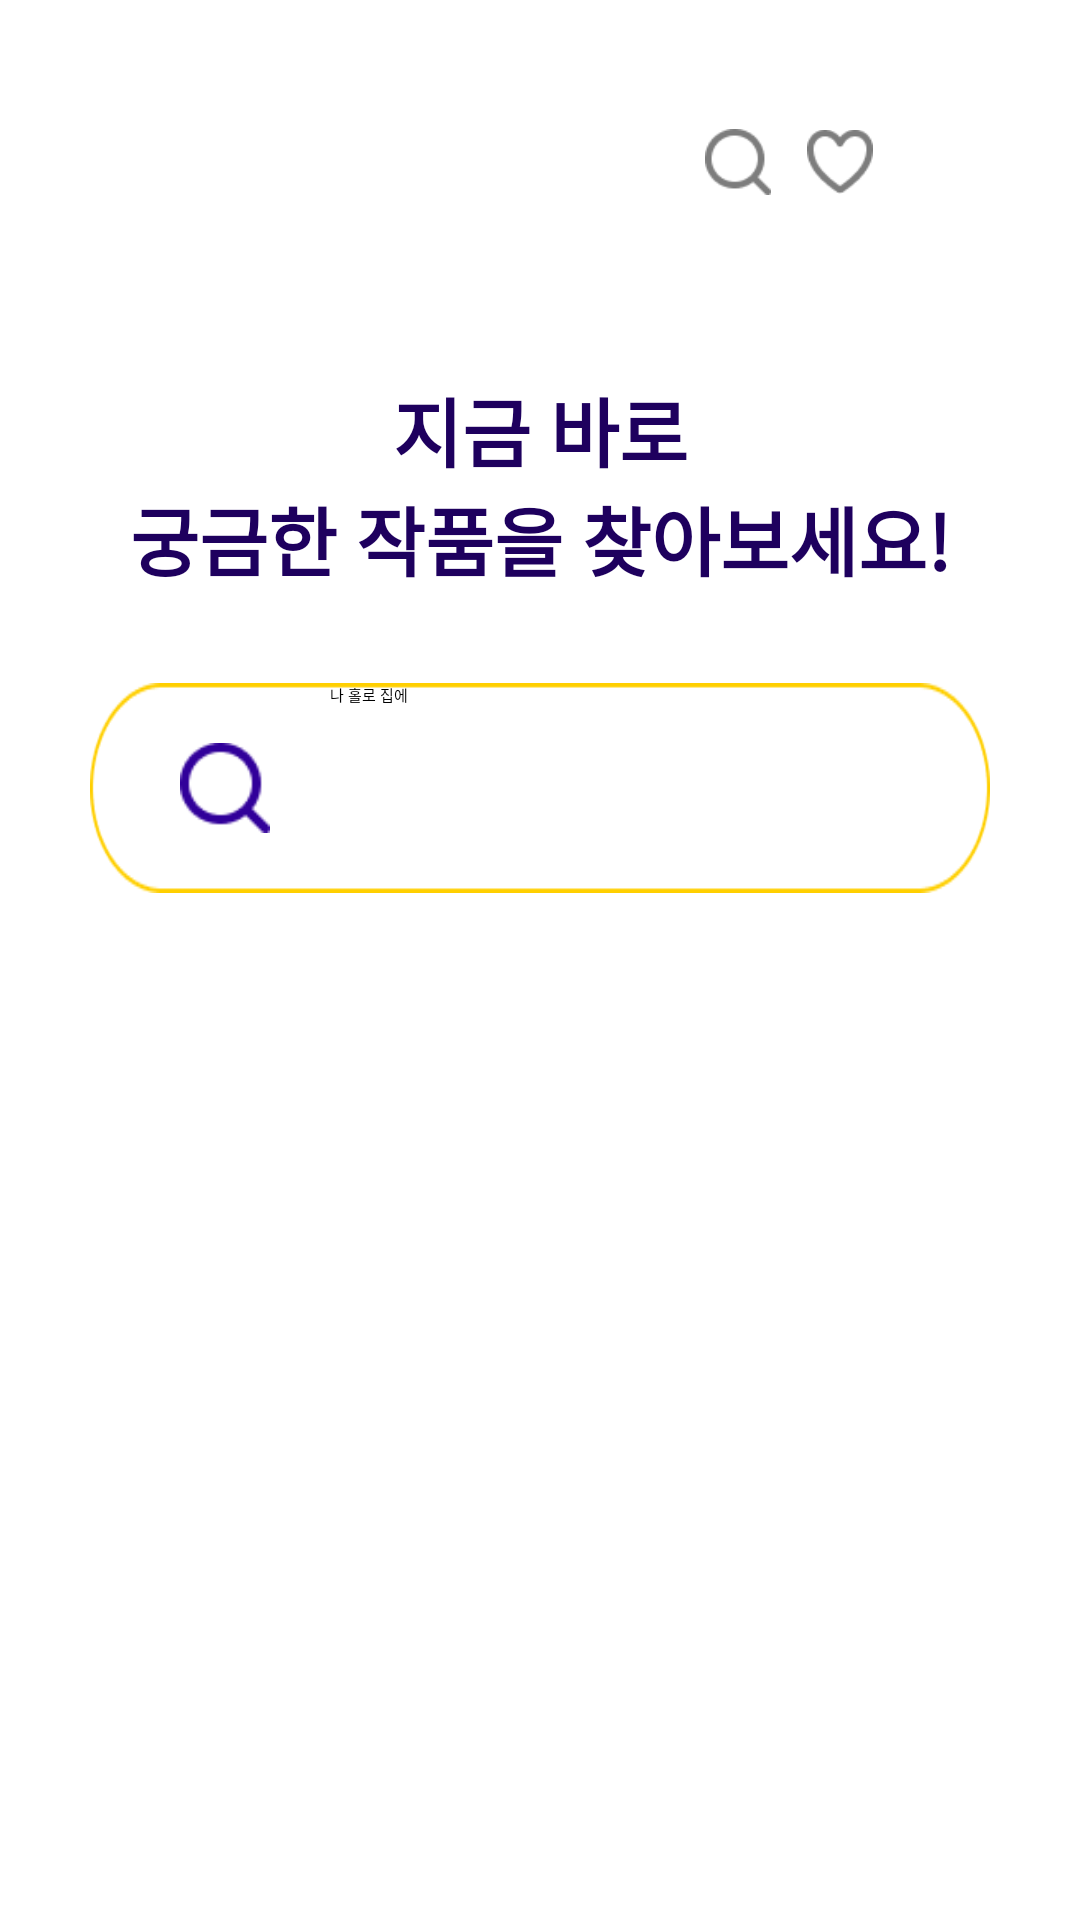

Point at icon controls on the screen. Image size 1080x1920, points as point (x, y).
heartgray: point (840, 161)
search: point (738, 162)
searchblue: point (225, 788)
